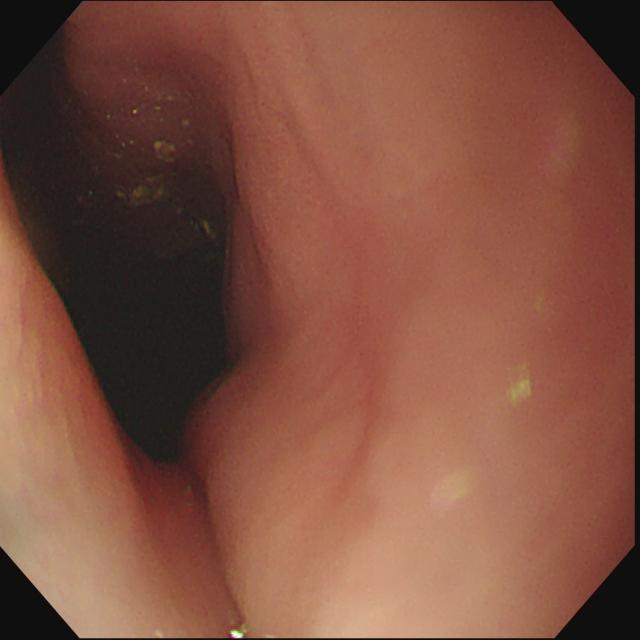E: (29, 205, 247, 479)
